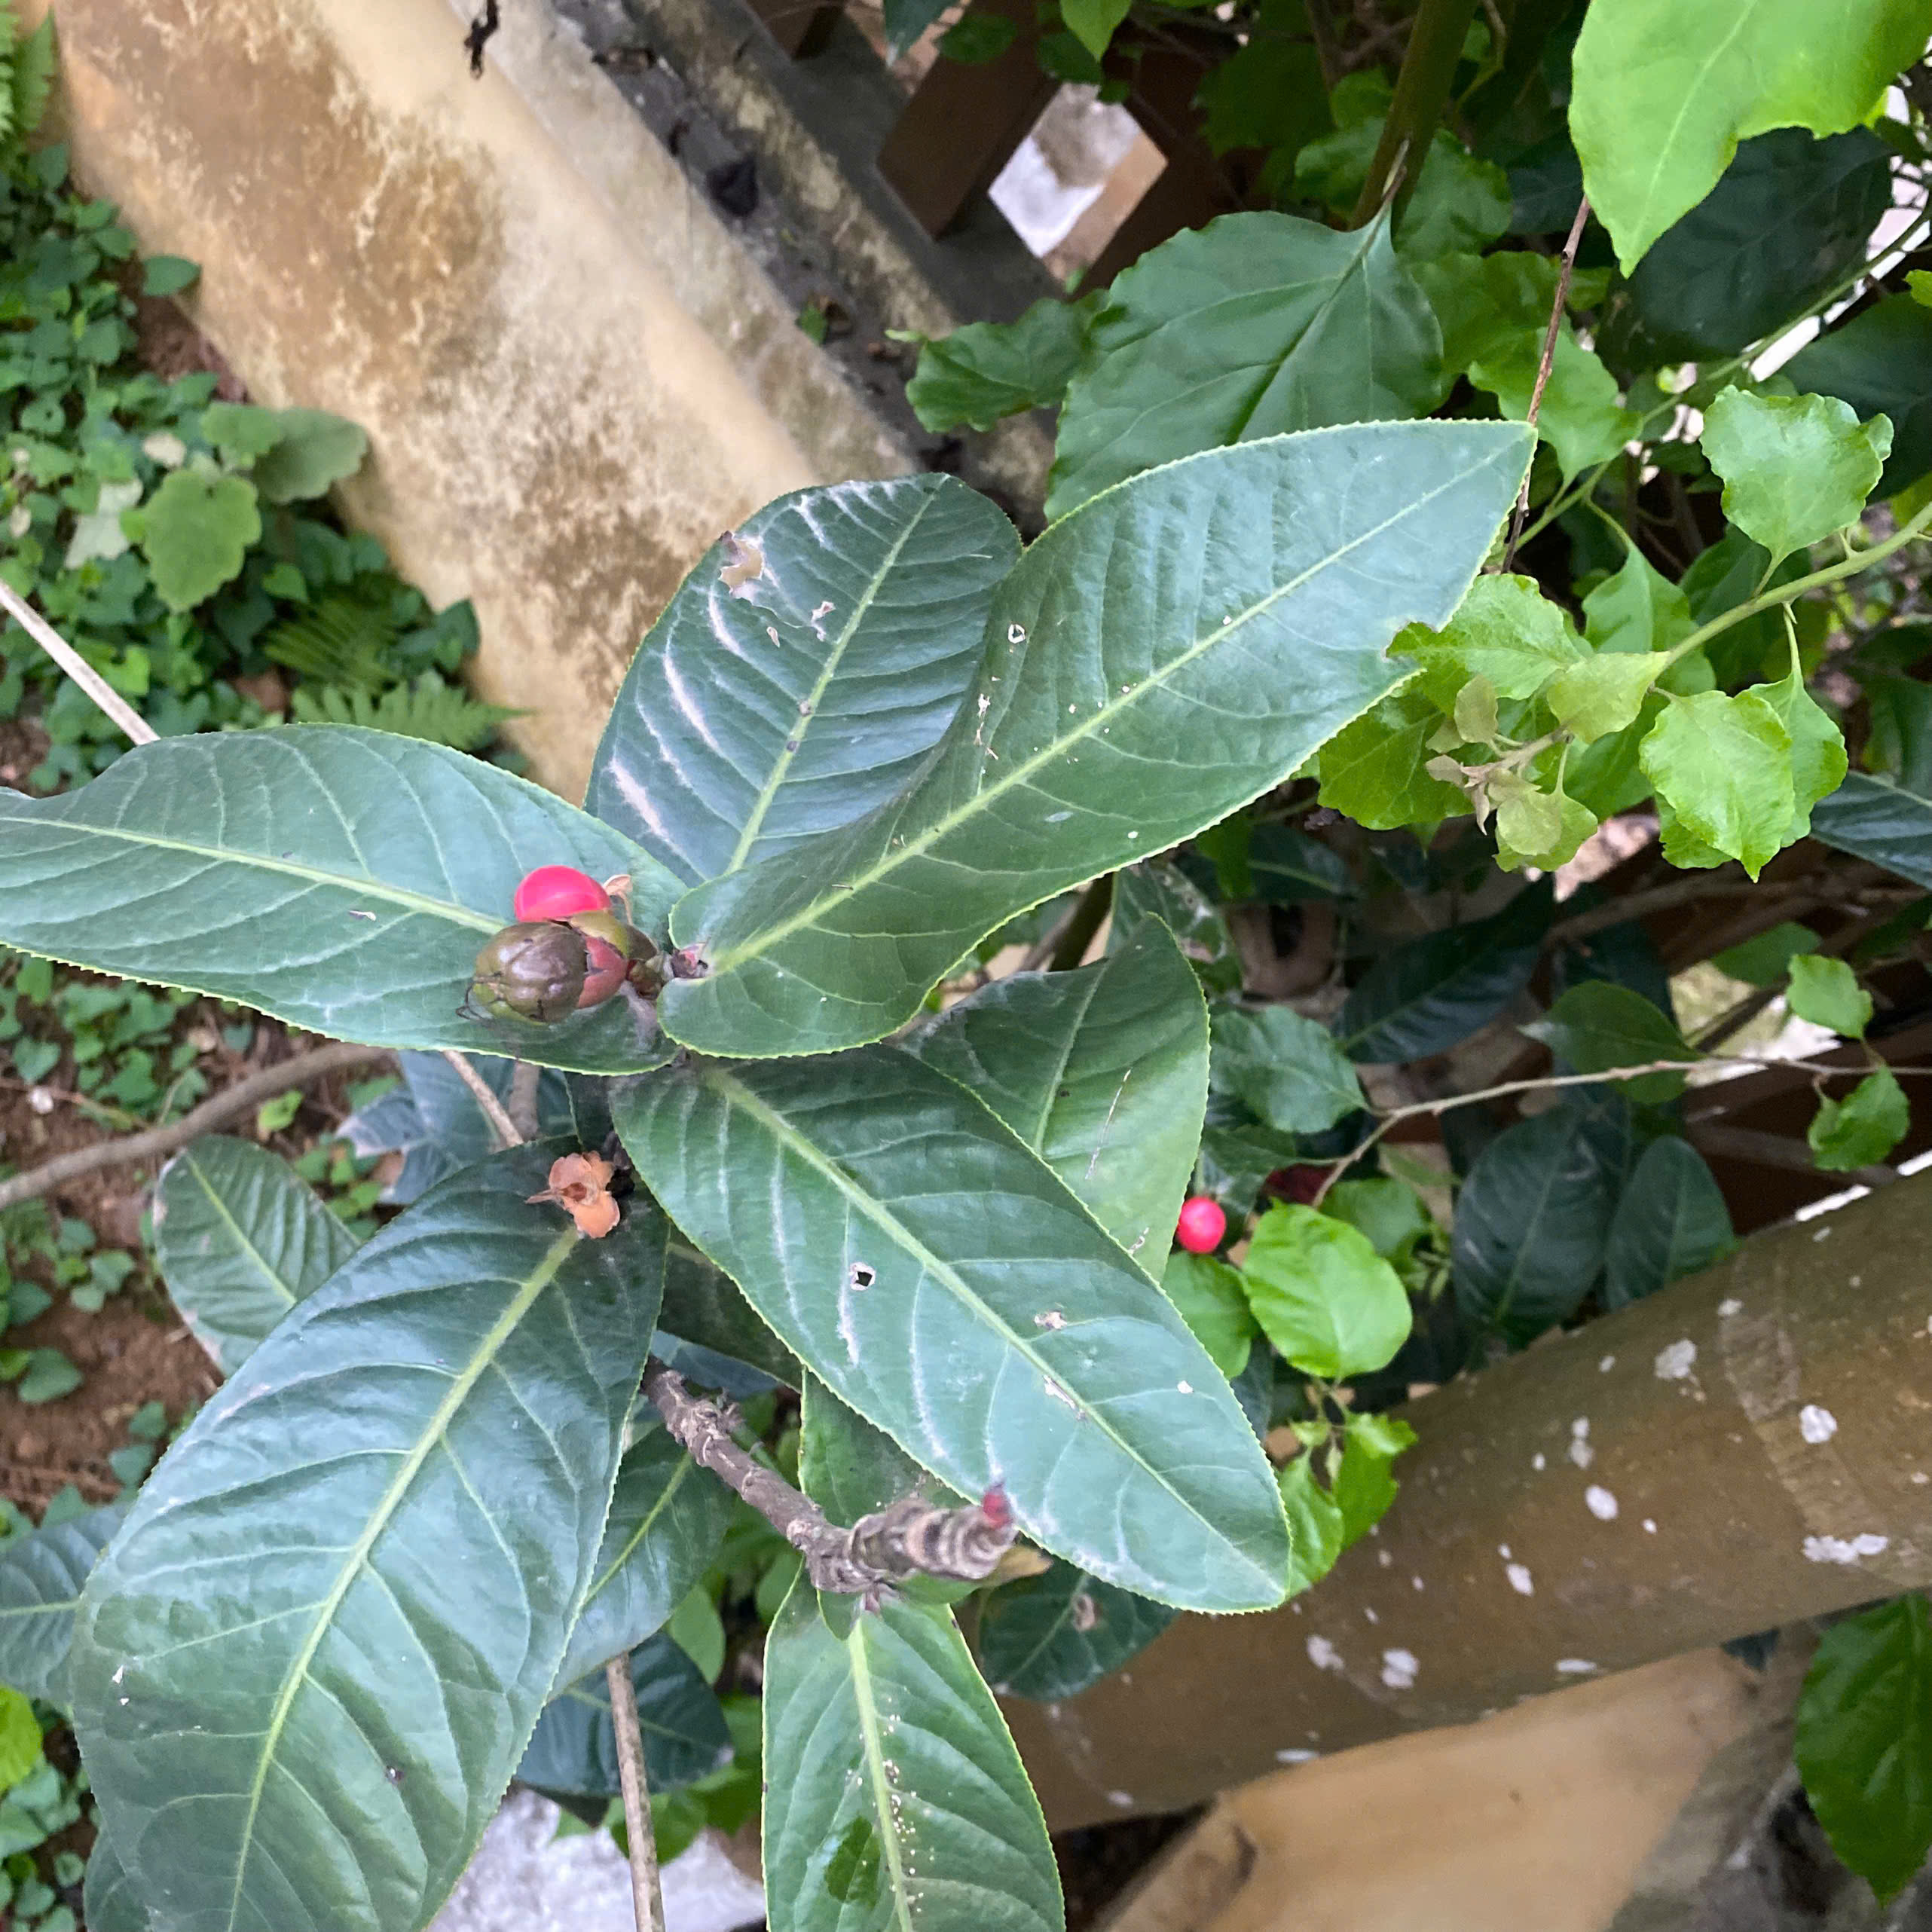hoa_hai_duong: (11, 359, 1569, 1932)
